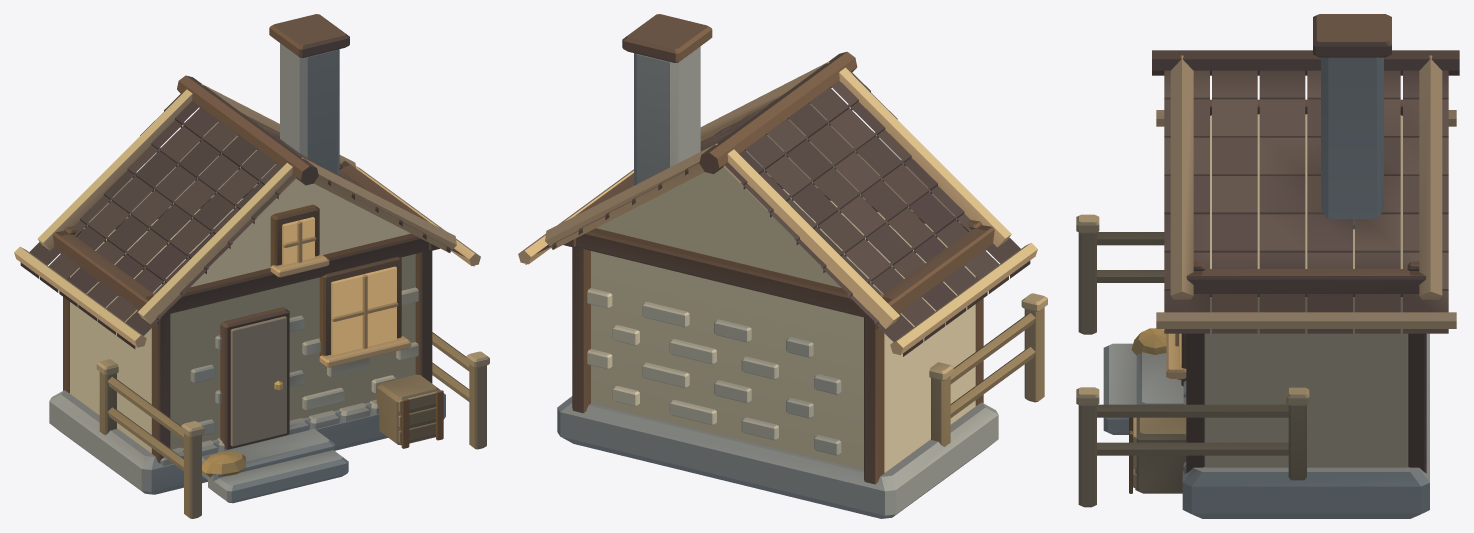
The model's file is farm_goat_shed.glb.
3 renders of one model, left to right at view 1: azimuth 30°, elevation 25°; view 2: azimuth 150°, elevation 25°; view 3: azimuth 270°, elevation 25°, orthographic. The views are drawn at different scales.
Visible parts, largest first — view 1: farm_goat_shed; view 2: farm_goat_shed; view 3: farm_goat_shed.
Boxes of the visible parts, box(x1,y1,x2,y2) form: farm_goat_shed: box(14, 14, 489, 518); farm_goat_shed: box(518, 14, 1047, 518); farm_goat_shed: box(1076, 14, 1459, 518).
Bounding box in the file's own units: 3.45 × 3.47 × 2.66.
